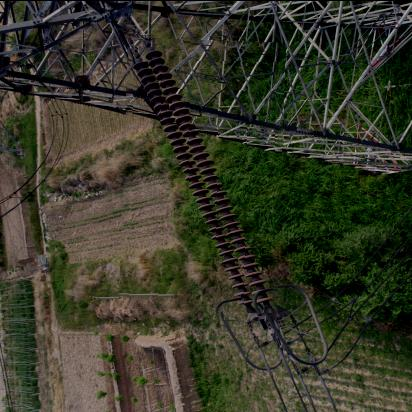insulator: (123, 39, 285, 313)
